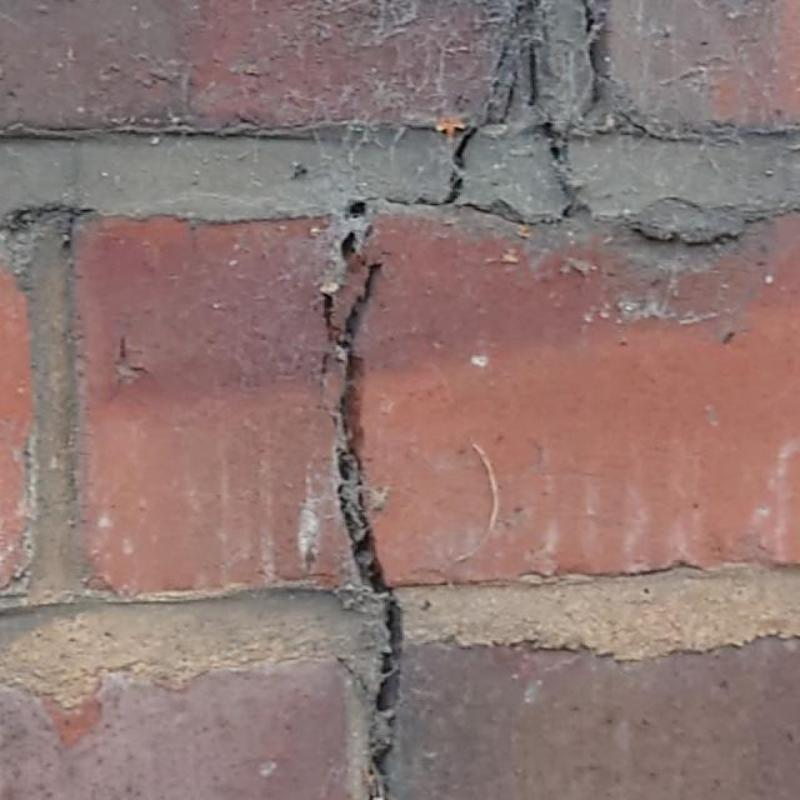crack: (320, 200, 403, 799), (383, 128, 573, 224), (478, 38, 518, 127), (564, 76, 599, 158), (631, 224, 738, 243), (619, 110, 664, 141), (336, 655, 370, 694), (400, 121, 470, 135), (524, 43, 539, 106), (519, 119, 556, 137), (589, 37, 602, 77), (583, 2, 597, 38), (551, 147, 559, 160)
